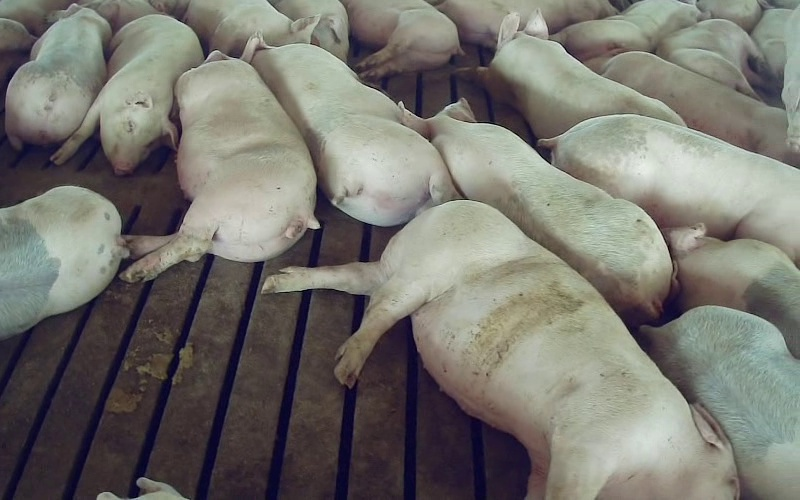pig: (402, 98, 672, 324), (120, 36, 318, 279), (539, 114, 799, 267), (251, 43, 458, 225), (639, 306, 799, 499), (458, 9, 684, 137), (585, 51, 799, 167), (51, 14, 203, 174), (0, 186, 128, 339), (663, 223, 799, 358), (5, 4, 111, 149), (343, 0, 462, 80), (551, 0, 699, 60), (656, 19, 766, 98), (435, 0, 617, 47), (183, 0, 319, 57), (269, 0, 348, 62)
